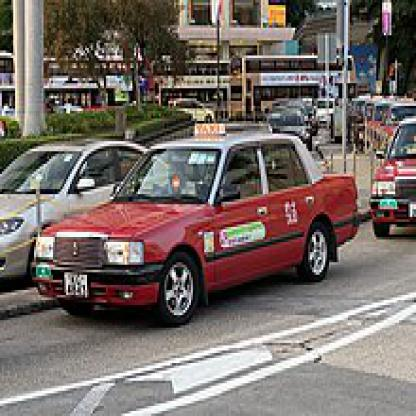taxi: (31, 120, 364, 326)
